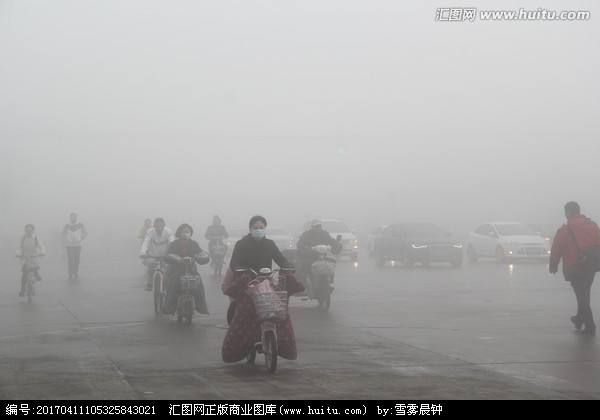person: (221, 216, 303, 371), (549, 200, 600, 334), (164, 222, 207, 324), (297, 218, 342, 312), (141, 217, 176, 293), (14, 224, 47, 304), (60, 213, 88, 285), (205, 214, 230, 276)
